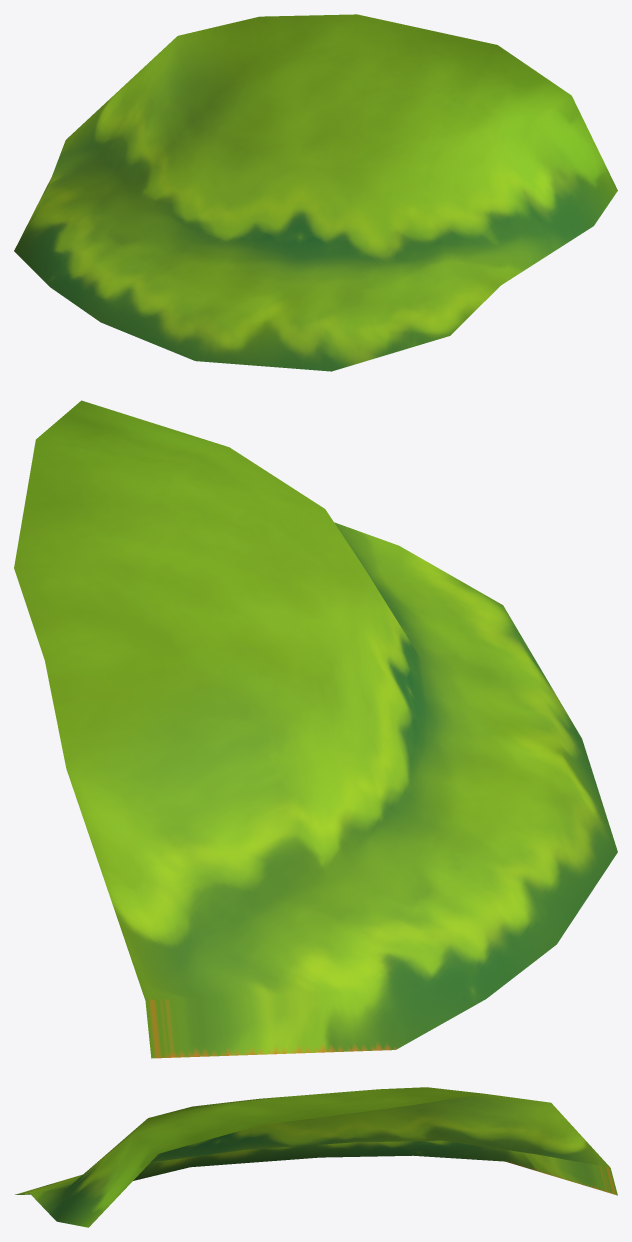
Rendered from SM_Hill_01.fbx.
3 views of the same model, one above another, from view 1: azimuth 30°, elevation 25°; view 2: azimuth 150°, elevation 25°; view 3: azimuth 270°, elevation 25° (orthographic). The views are drawn at different scales.
Parts seen in each view (by area): view 1: SM_Platform_Portal_05; view 2: SM_Platform_Portal_05; view 3: SM_Platform_Portal_05.
Boxes of the visible parts, x1,y1,x2,y2 form: SM_Platform_Portal_05: (14, 14, 617, 371); SM_Platform_Portal_05: (14, 400, 617, 1058); SM_Platform_Portal_05: (15, 1087, 617, 1227).
Bounding box in the file's own units: 807 × 407 × 1084.
